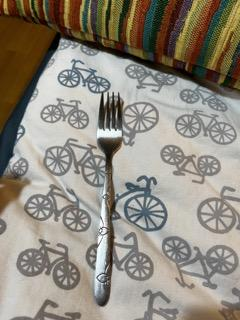fork: (93, 87, 124, 308)
